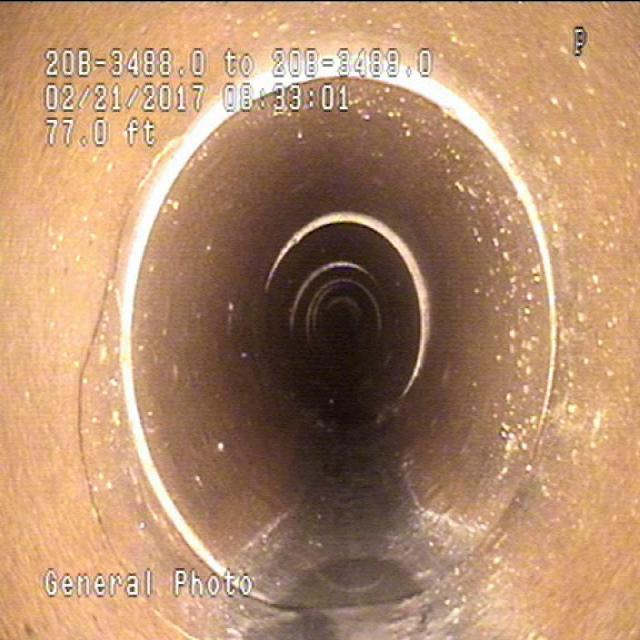Crack: (58, 233, 142, 520)
